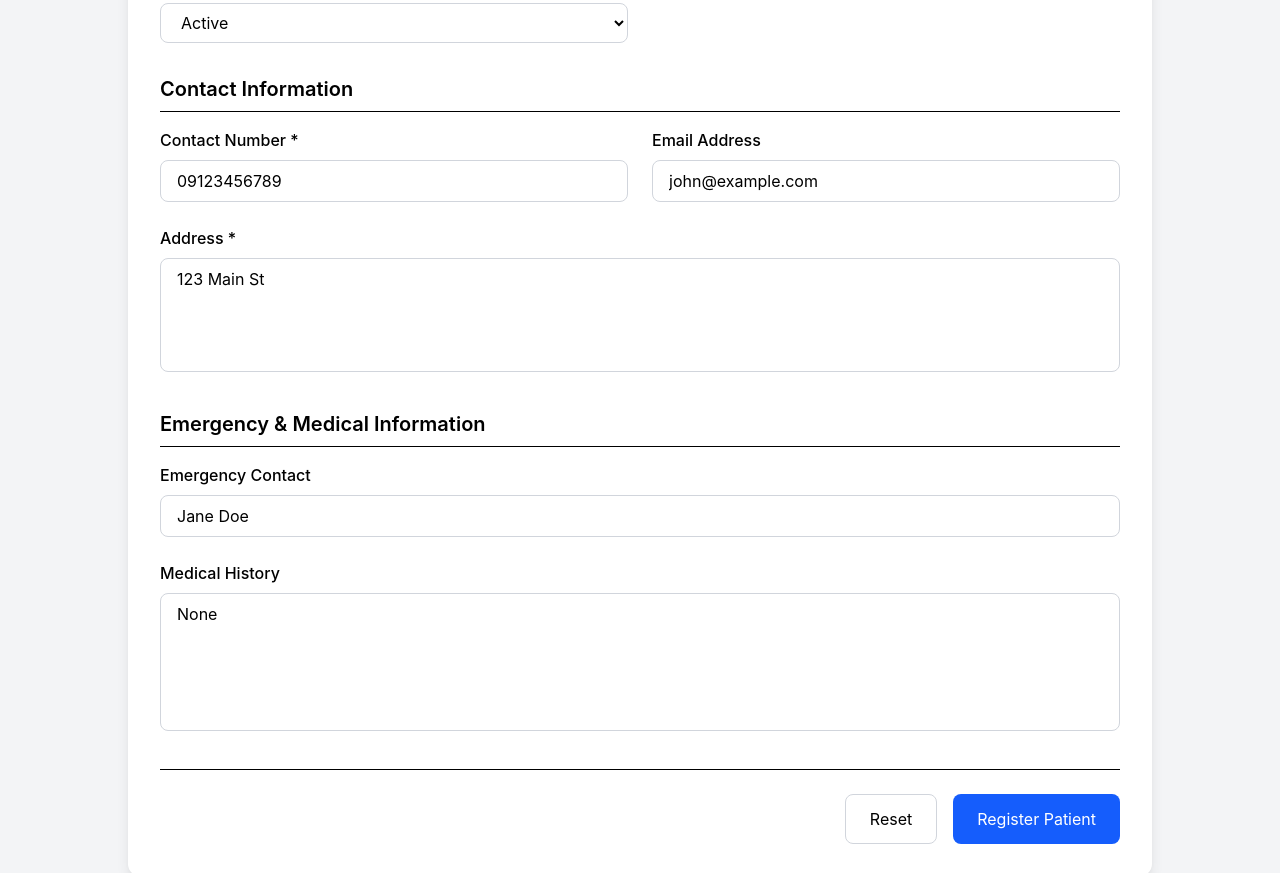
Test case: PatientRegistrationForm › submits the form successfully and displays success message
(page scrolled)
What coordinates should you click on to do the following:
click the button "Register Patient"
I would click on:
 (1037, 819)
Its box is [953,794,1120,844].
(page scrolled)
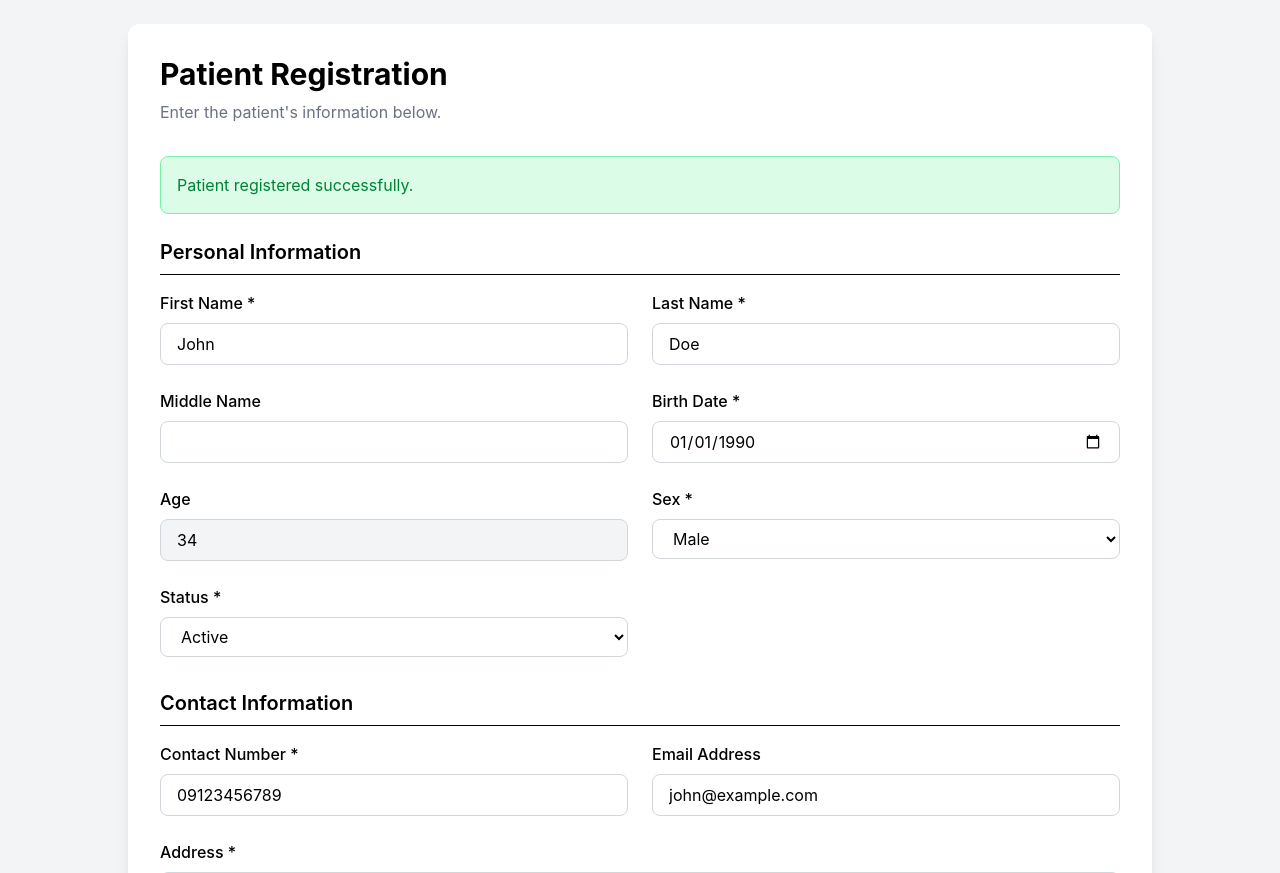
Now the text "Patient registered successfully." is shown, box [160,156,1120,214]
